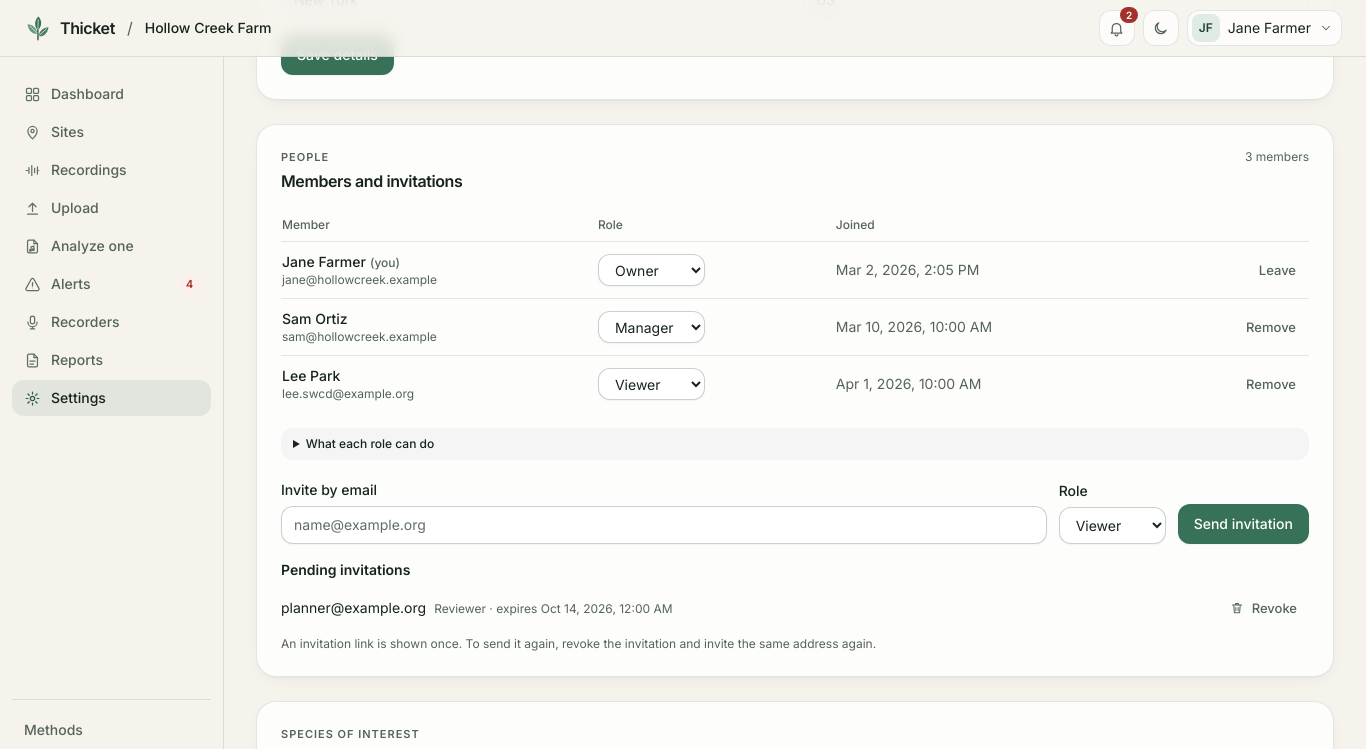
role gating › lets owners change roles and managers invite
(page scrolled)
Select "Reviewer" in the dropdown named "Role for Lee Park": [652, 384] box [598,368,705,400]
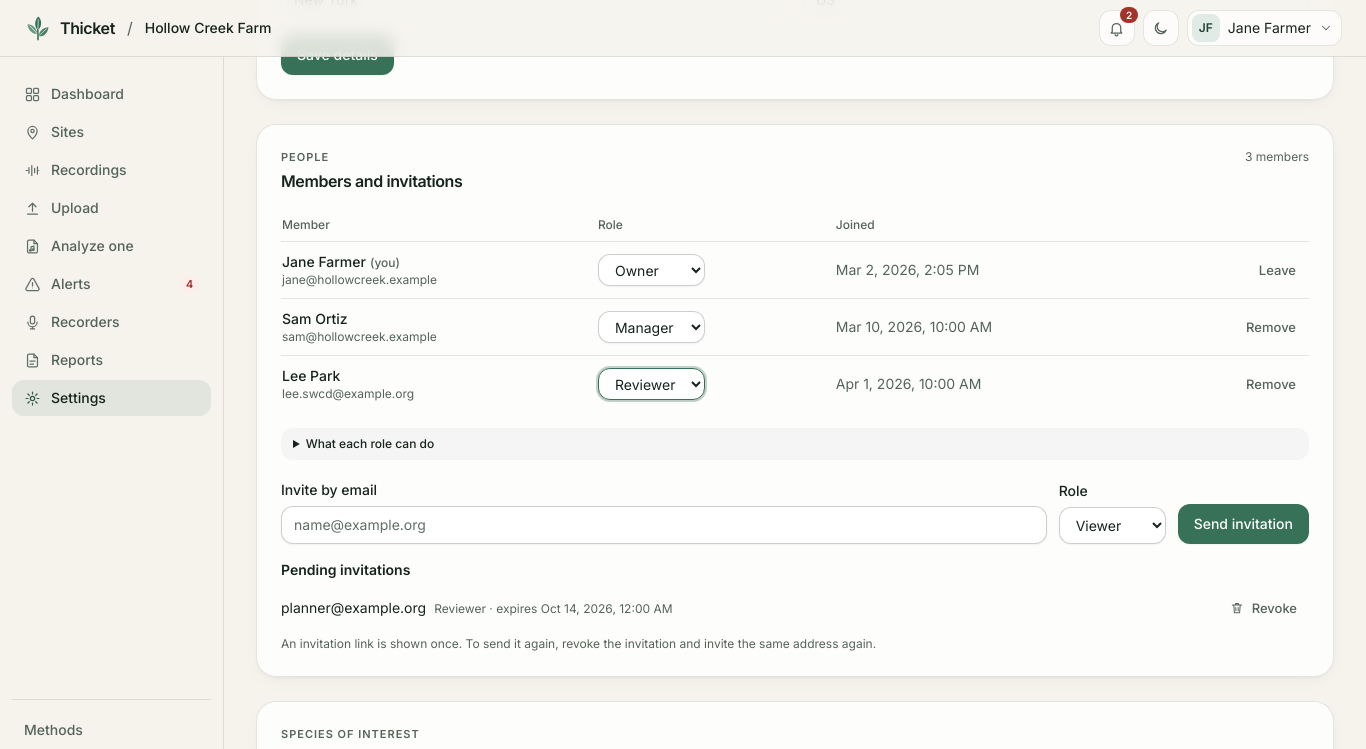
In the field labelled "Invite by email": [664, 525] box [281,506,1047,544], type "planner2@example.org"
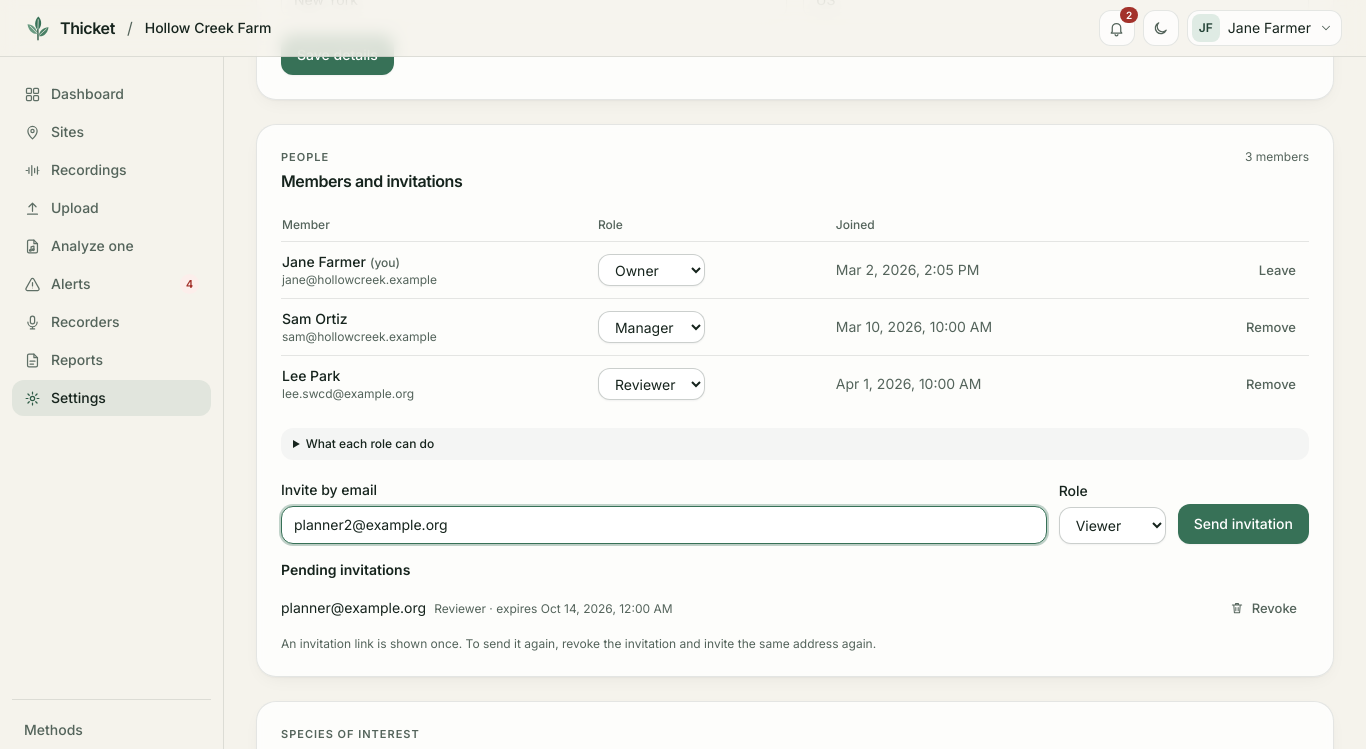
Click the button "Send invitation": [1243, 524] box [1178,504,1309,544]
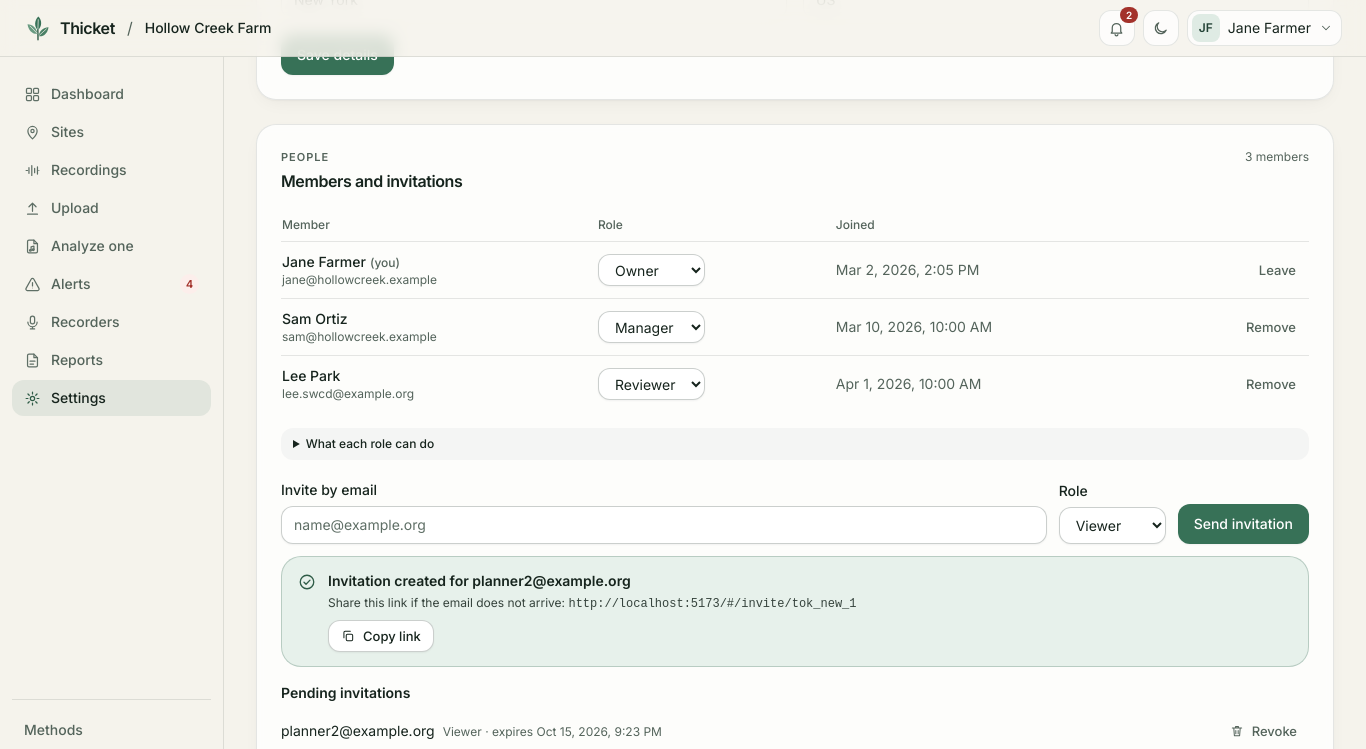
Expected: the text "Invitation created for planner2@example.org" is shown, [328,572,631,589]
Expected: the text "http://localhost:5173/#/invite/tok_new_1" is shown, [568,597,856,611]
